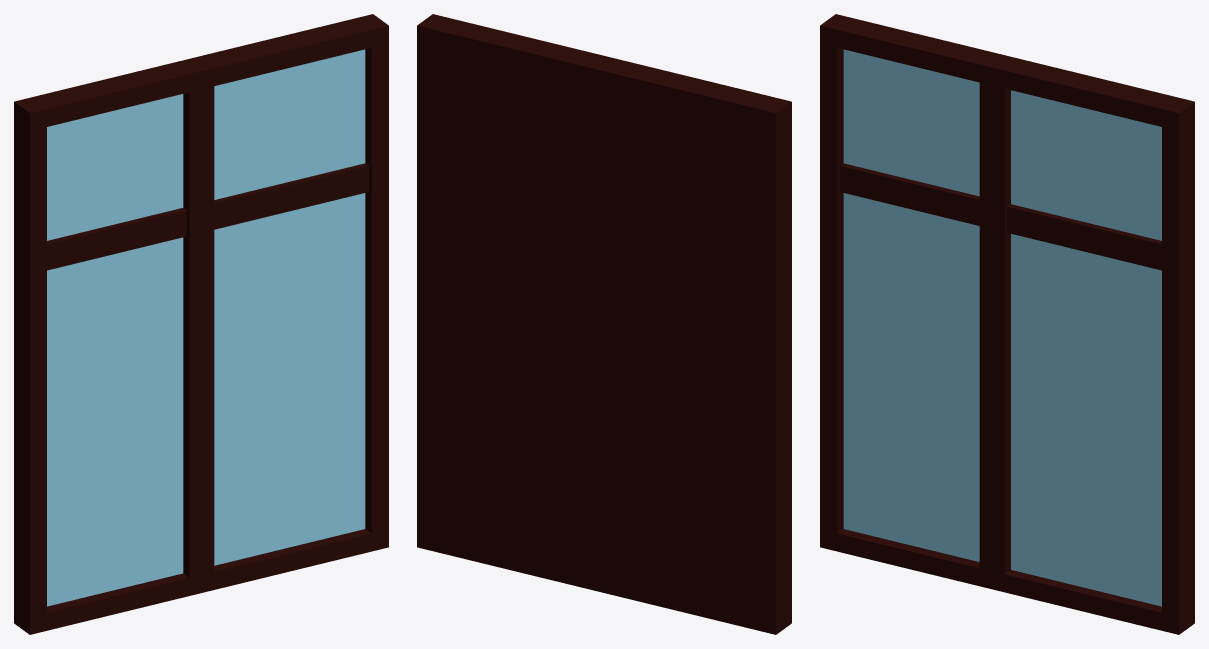
The model's file is Wall_Var2.FBX.
3 views of the same model, side by side, from view 1: azimuth 30°, elevation 25°; view 2: azimuth 150°, elevation 25°; view 3: azimuth 330°, elevation 25° (orthographic).
Visible parts, largest first — view 1: Box011; view 2: Box011; view 3: Box011.
Part boxes in pixels (bbox=[...]): Box011: bbox=[14, 14, 388, 634]; Box011: bbox=[417, 14, 791, 634]; Box011: bbox=[820, 14, 1194, 634].
Bounding box in the file's own units: 288 × 400 × 22.02.
